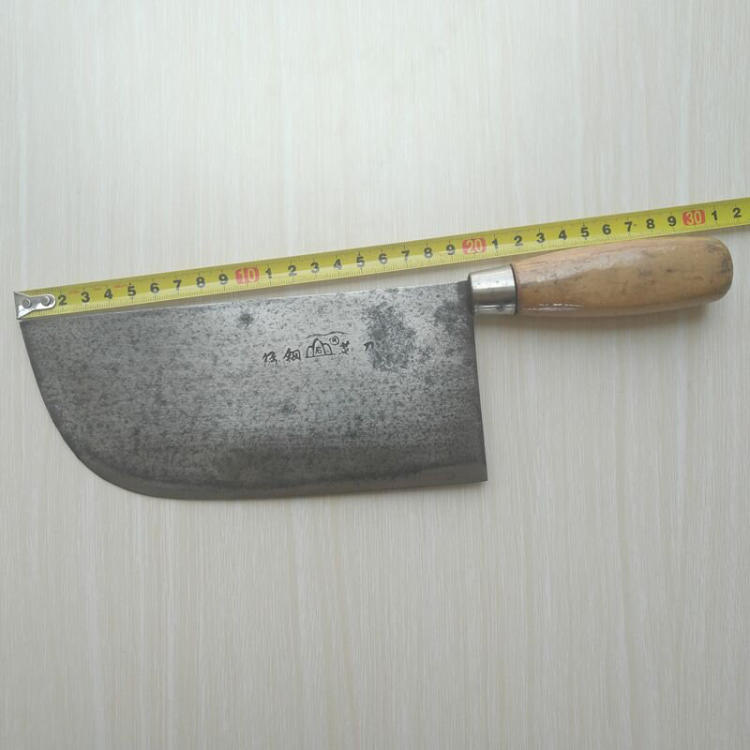knief: (19, 250, 745, 496)
